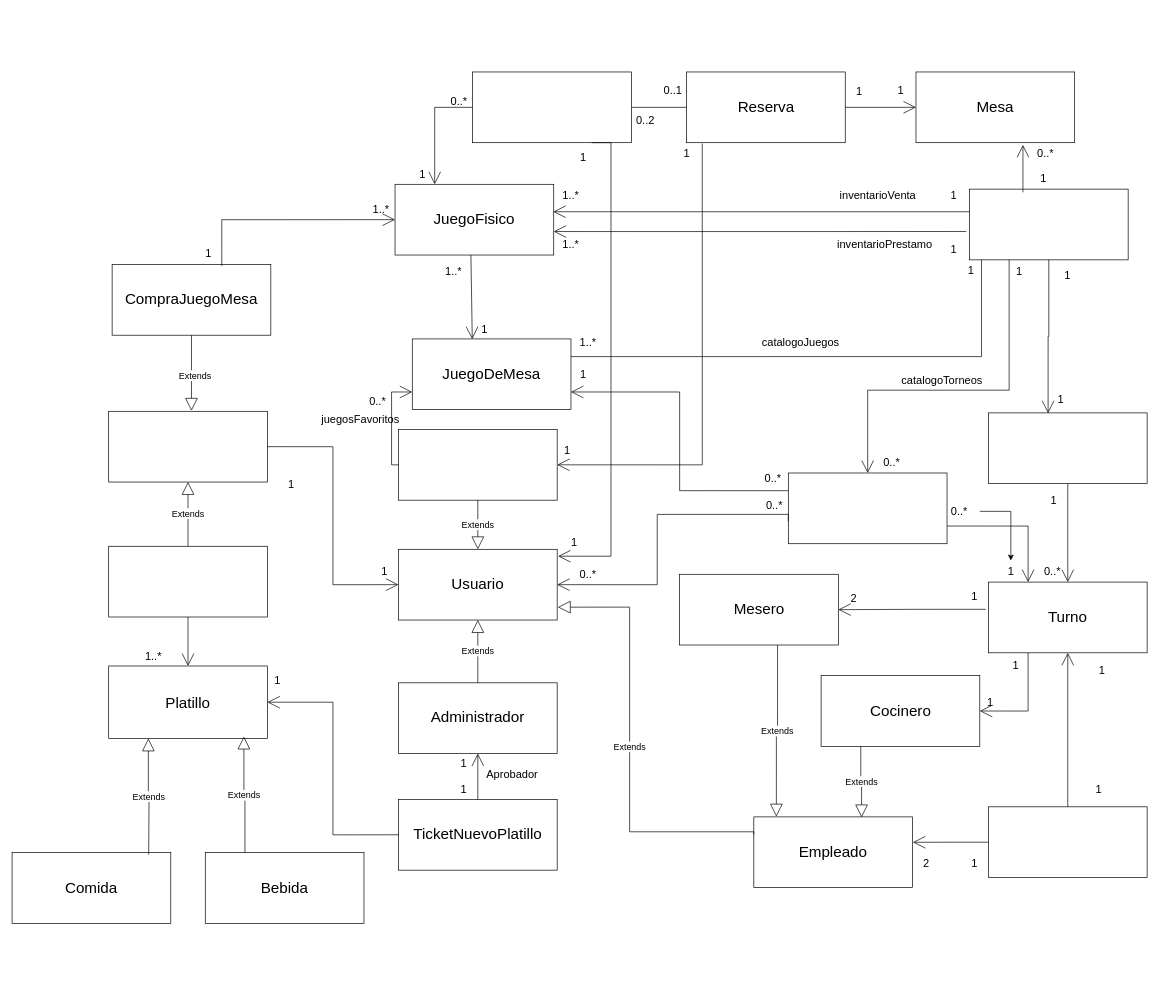
This 1159x996 diagram has some shape labels left out. Each missing label, with the box of its shape:
Cafe: (969, 188, 1128, 260)
Cliente: (398, 429, 557, 500)
Compra: (108, 411, 267, 482)
CompraPlatillo: (108, 546, 267, 617)
HorarioSemanal: (988, 412, 1147, 484)
Prestamo: (472, 71, 631, 143)
TicketCambiarTurno: (988, 806, 1147, 878)
Torneo: (788, 472, 947, 544)
